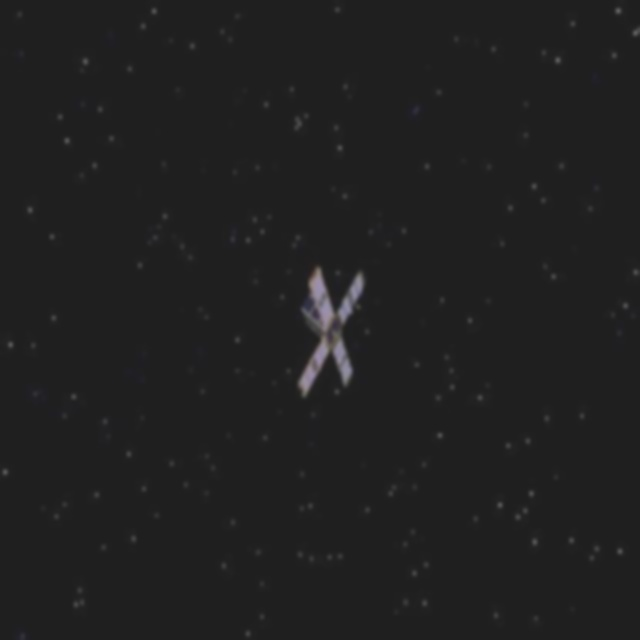satellite: (286, 255, 377, 396)
